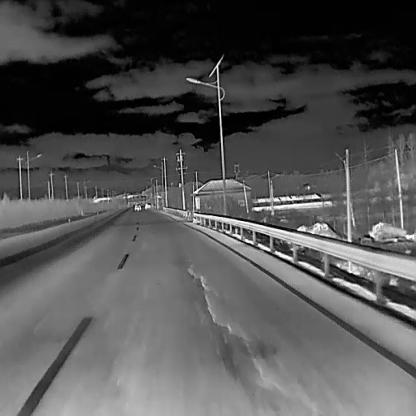car: (143, 200, 152, 210), (133, 201, 141, 211)
